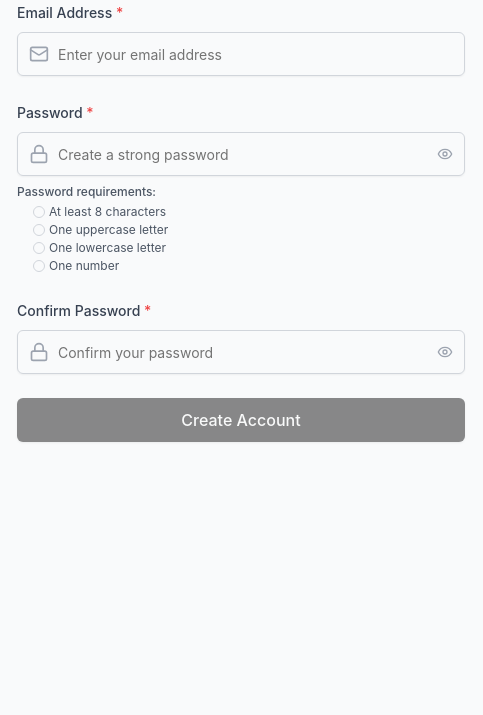
Scenario: RegisterForm › Retry functionality › should show retry button for network errors and retry on click
// Fill form
Type "test@example.com" into the field labelled "Email Address *" at (241, 54), box [17,32,465,76]
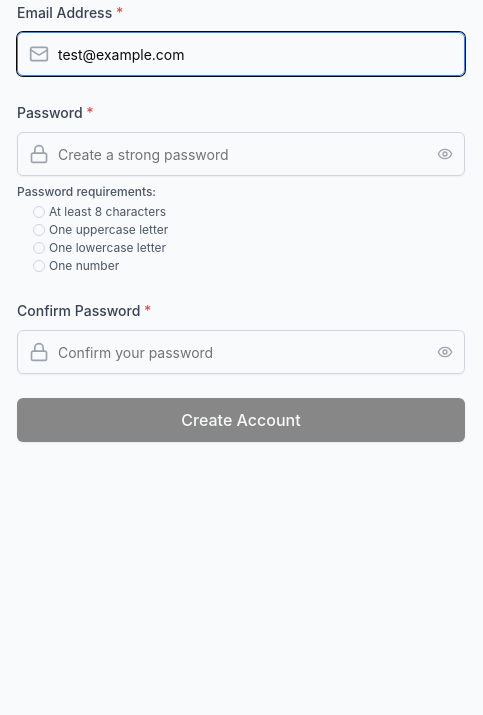
Type "ValidPass123" into the password field labelled "Password *" at (241, 154), box [17,132,465,176]
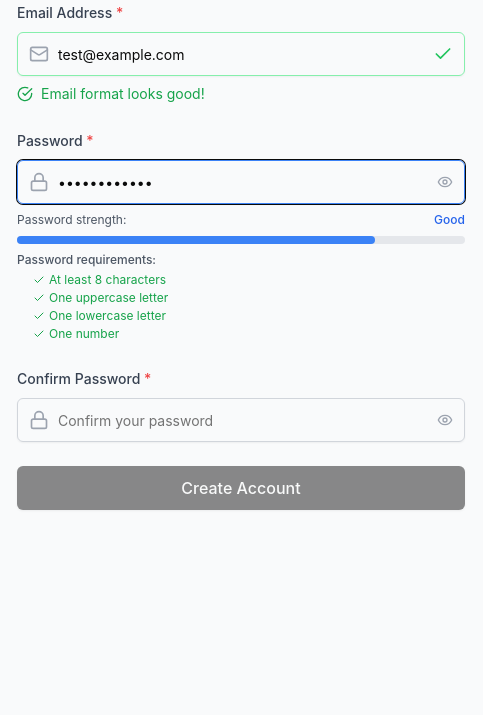
Type "ValidPass123" into the password field labelled "Confirm Password *" at (241, 420), box [17,398,465,442]
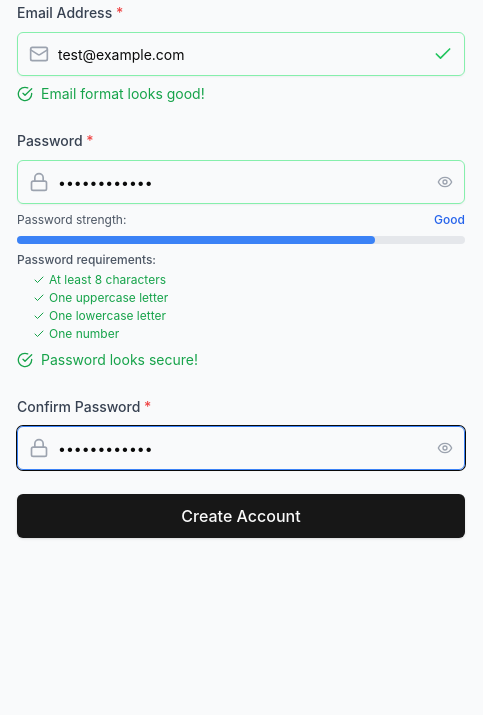
// Submit form - should fail with network error
Click the button "Create Account" at (241, 516), box [17,494,465,538]
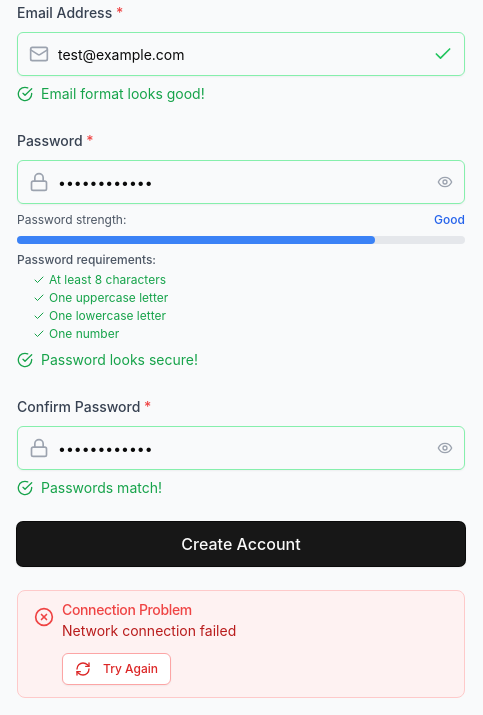
Now the heading "Connection Problem" is shown, box [62,601,192,618]
Now the button "Try Again" is shown
// Click retry button
Click the button "Try Again" at (116, 669), box [62,653,171,685]
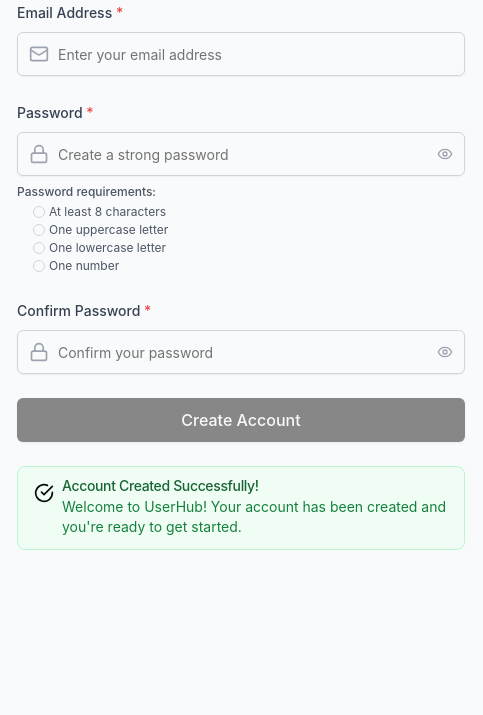
Now the heading "Account Created Successfully!" is shown, box [62,477,259,494]
